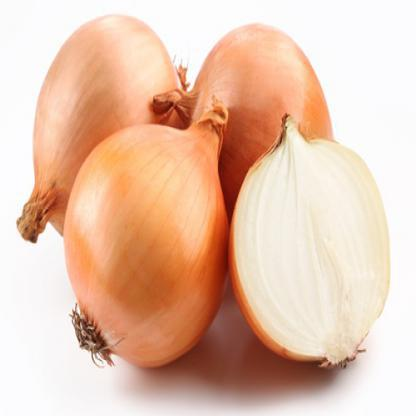onion: (78, 124, 235, 378), (238, 121, 388, 377), (24, 14, 190, 235), (195, 26, 330, 170)
